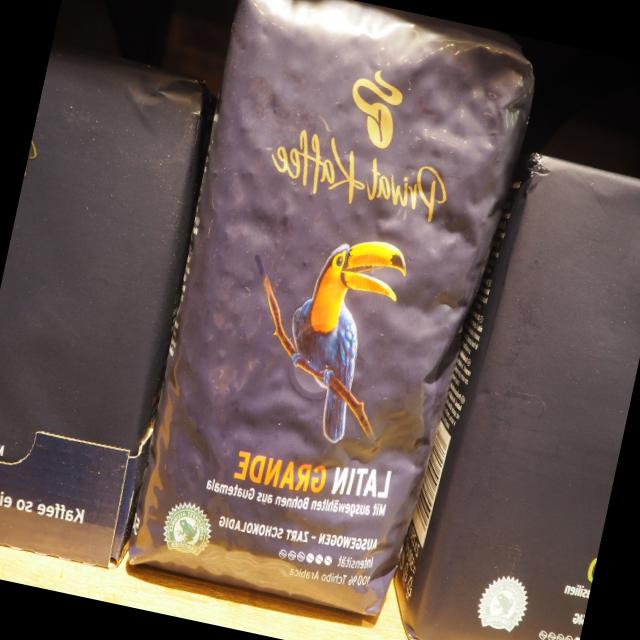LG Bohne: (121, 0, 552, 626)
